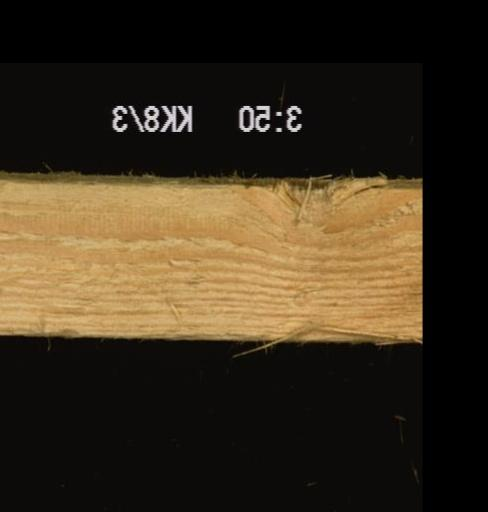edge_knot: (218, 174, 381, 219)
